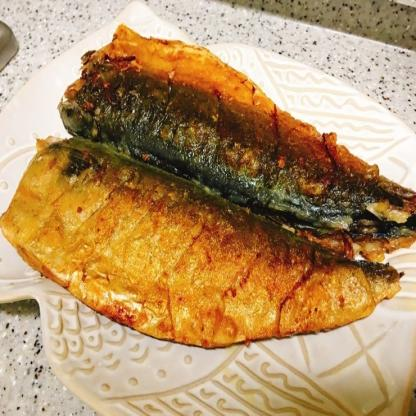Peixe: (0, 18, 416, 370)
